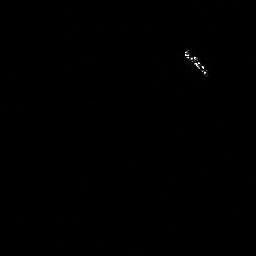ship: (180, 45, 210, 80)
